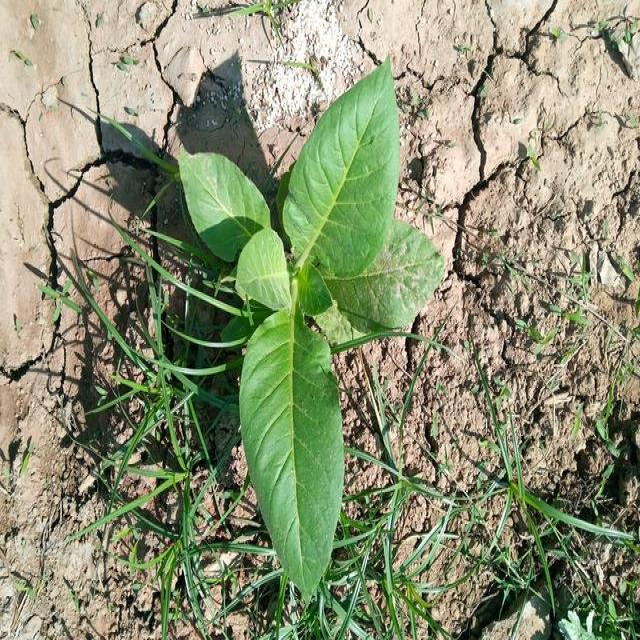crop: (176, 52, 450, 598)
